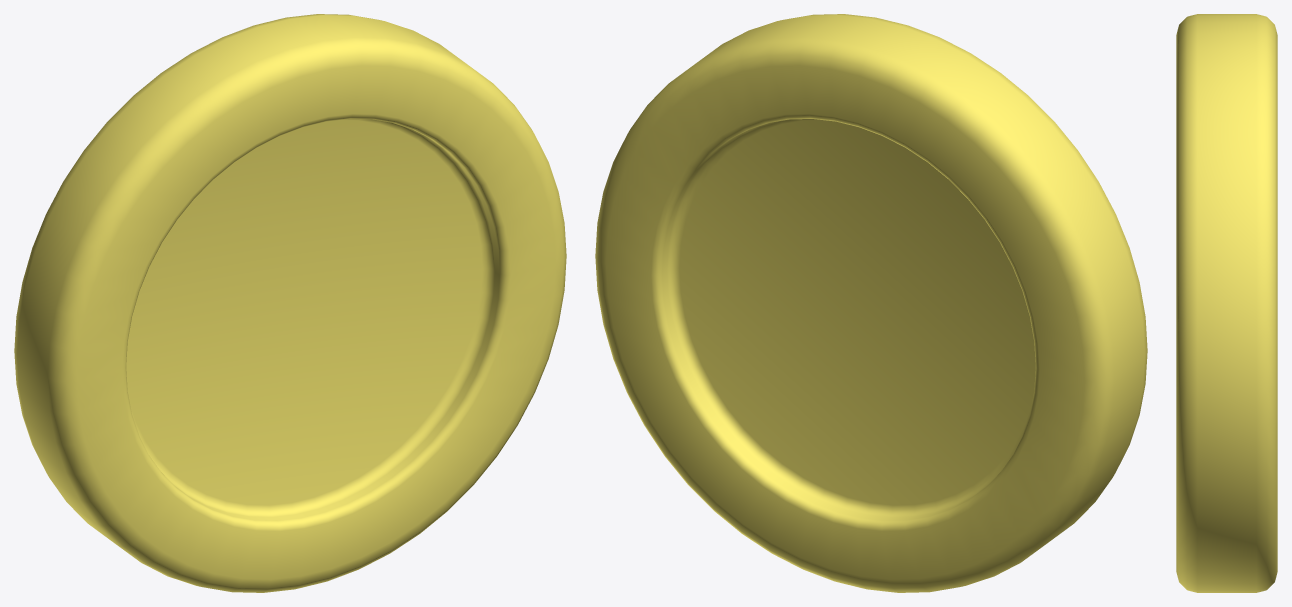
File: coin.glb
3 renders of one model, left to right at view 1: azimuth 30°, elevation 25°; view 2: azimuth 150°, elevation 25°; view 3: azimuth 270°, elevation 25°, orthographic. The views are drawn at different scales.
Visible parts, largest first — view 1: Coin; view 2: Coin; view 3: Coin.
Boxes of the visible parts, bbox=[...] form: Coin: bbox=[14, 14, 566, 592]; Coin: bbox=[595, 14, 1147, 592]; Coin: bbox=[1176, 14, 1277, 592].
Bounding box in the file's own units: 0.4 × 0.3992 × 0.07.
